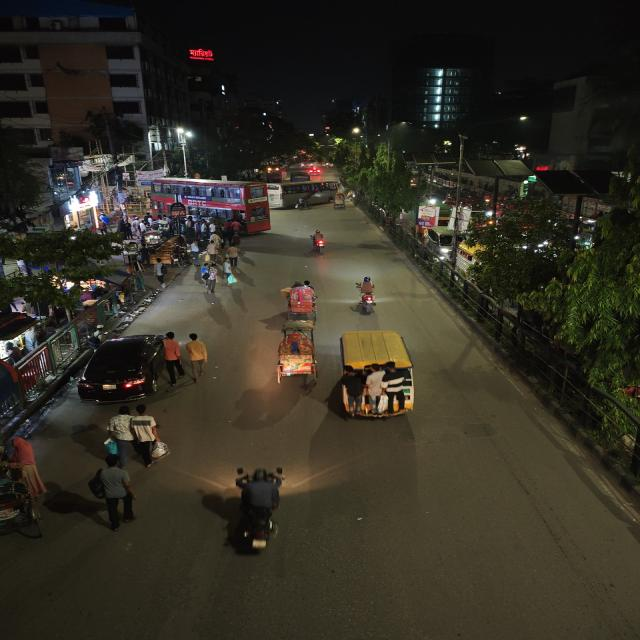bus: (153, 179, 267, 225), (266, 176, 338, 208)
car: (74, 330, 170, 404)
human_hauler: (332, 327, 434, 424)
motorcycle: (348, 275, 383, 317), (306, 228, 332, 258), (290, 198, 316, 211)
pedestrian: (227, 460, 297, 558), (104, 402, 170, 470), (89, 454, 140, 530), (0, 431, 49, 476), (158, 329, 186, 387), (183, 330, 210, 382), (222, 245, 242, 281), (199, 262, 221, 294), (151, 256, 171, 284)
rickshaw: (0, 458, 49, 540), (272, 322, 320, 387), (281, 281, 324, 325), (330, 193, 347, 210)
